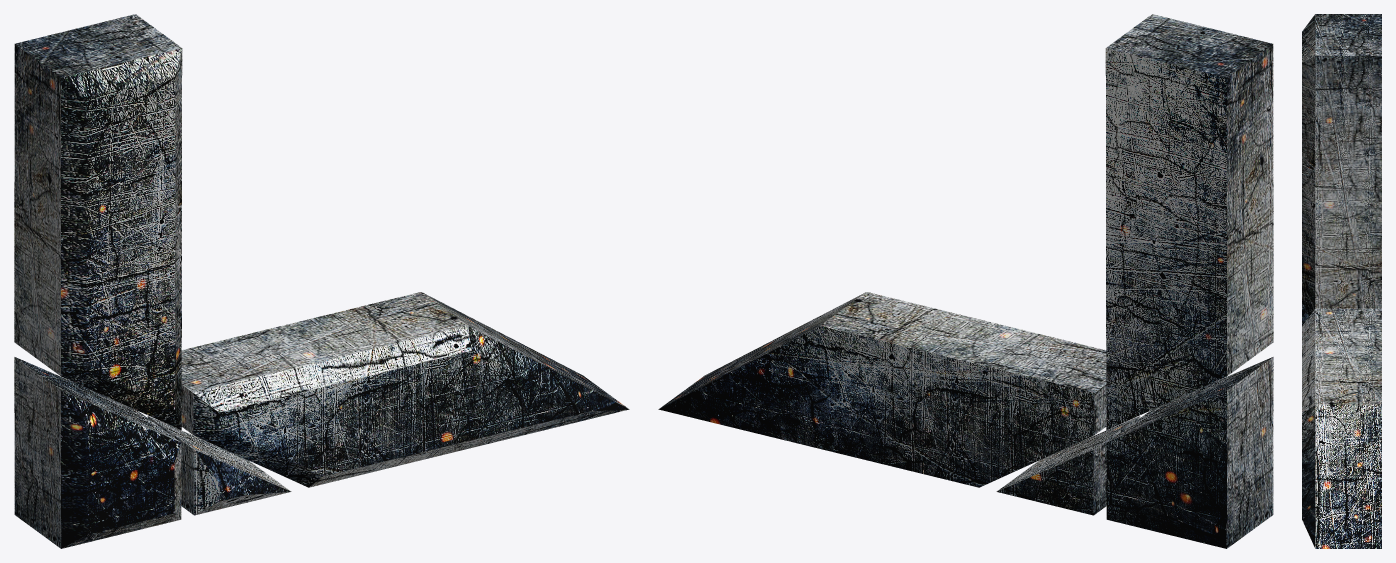
3 views of the same model, side by side, from view 1: azimuth 30°, elevation 25°; view 2: azimuth 150°, elevation 25°; view 3: azimuth 270°, elevation 25° (orthographic). The views are drawn at different scales.
Parts seen in each view (by area): view 1: L; view 2: L; view 3: L.
Part boxes in pixels (box(x1,y1,x2,y2)): L: box(14, 14, 629, 548); L: box(658, 14, 1273, 548); L: box(1302, 14, 1381, 548).
Bounding box in the file's own units: 70.61 × 55.93 × 12.
1 material, 1 textured.
